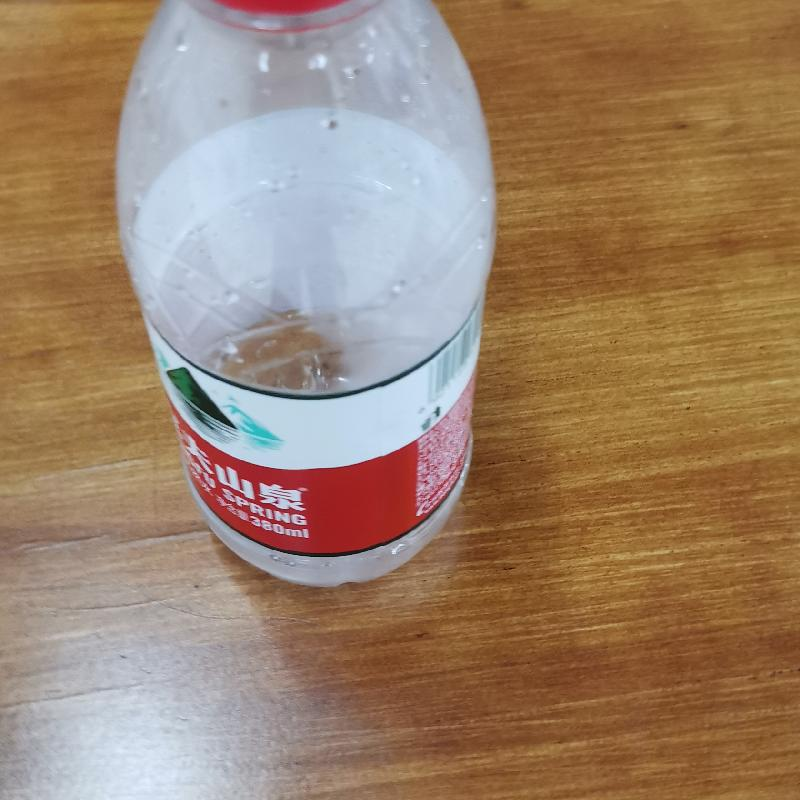bottles: (108, 2, 498, 593)
